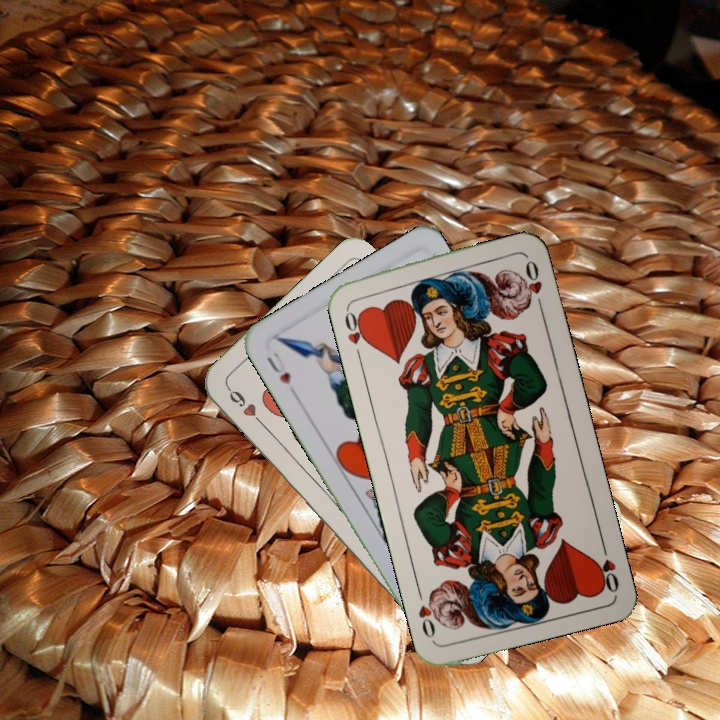H9: (223, 383, 269, 430)
HO: (340, 302, 372, 361), (591, 537, 622, 595)
HU: (263, 347, 294, 388)
